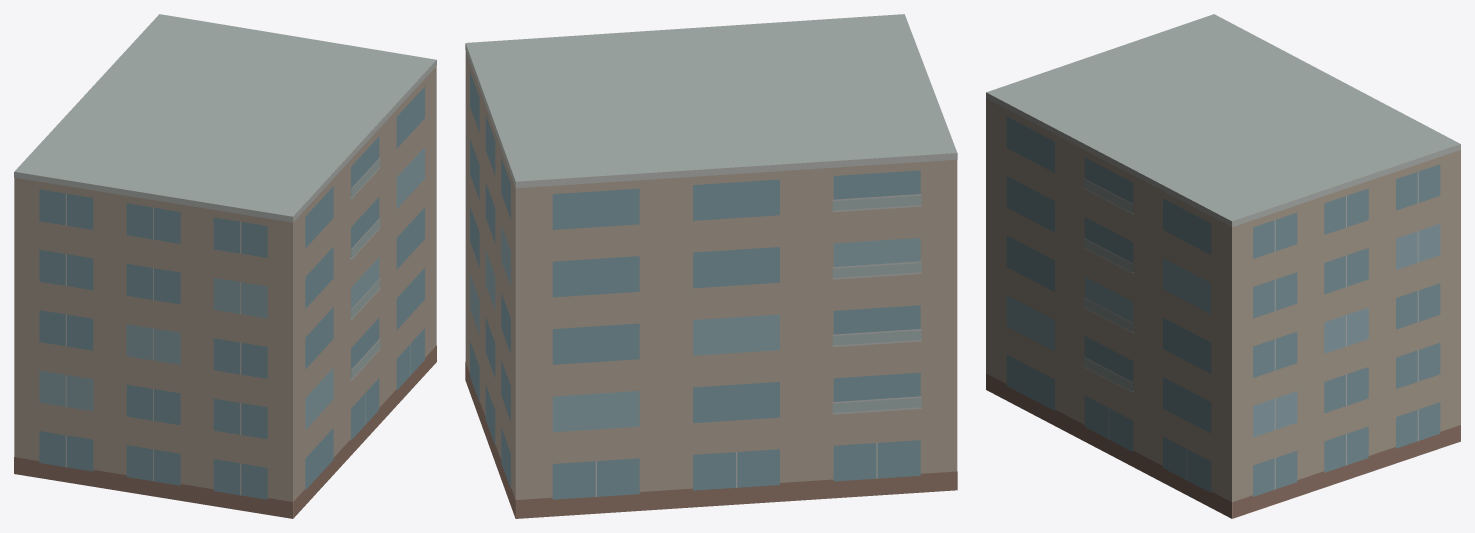
The model's file is survey-upis-32816444.glb.
3 views of the same model, side by side, from view 1: azimuth 30°, elevation 25°; view 2: azimuth 150°, elevation 25°; view 3: azimuth 270°, elevation 25° (orthographic). The views are drawn at different scales.
Visible parts, largest first — view 1: survey-upis-32816444.tmp; view 2: survey-upis-32816444.tmp; view 3: survey-upis-32816444.tmp.
Boxes of the visible parts, box(x1,y1,x2,y2) form: survey-upis-32816444.tmp: box(14, 14, 436, 518); survey-upis-32816444.tmp: box(465, 14, 957, 518); survey-upis-32816444.tmp: box(986, 14, 1460, 518).
Size of the model in its own units: 18.7 by 12.5 by 18.09.
